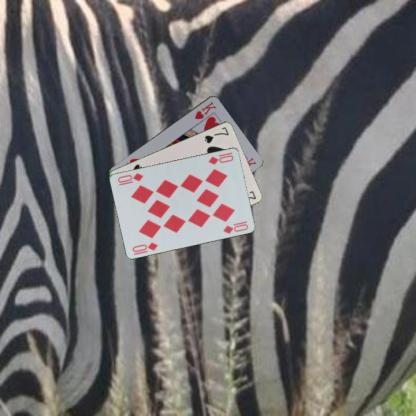10d: (206, 152, 235, 166), (130, 239, 159, 253)
7s: (202, 124, 230, 145)
Kh: (192, 99, 217, 120)
